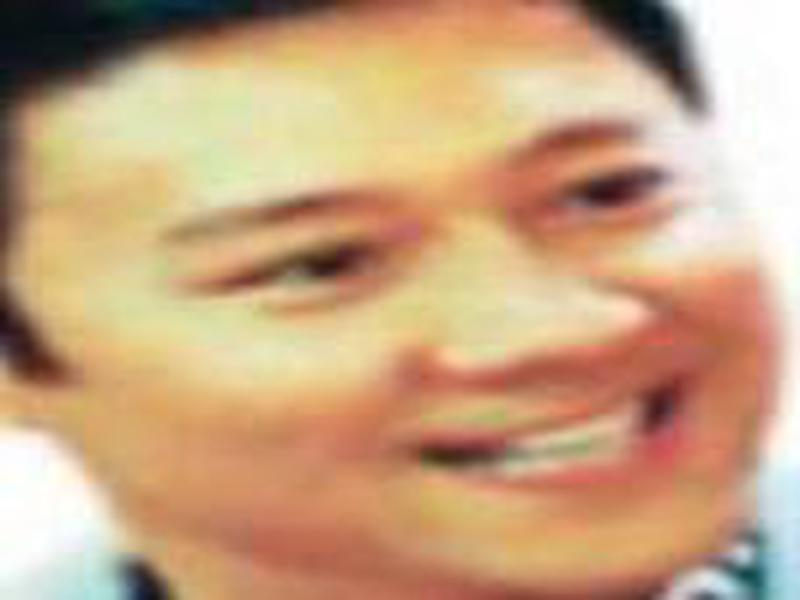without_mask: (10, 12, 780, 580)
